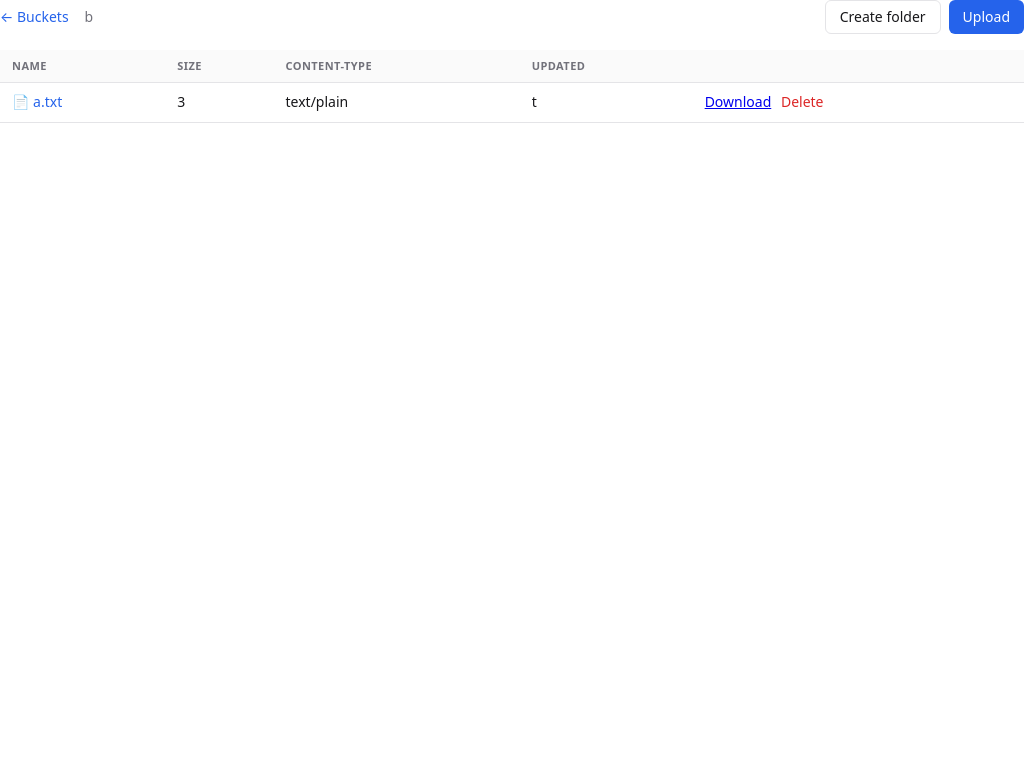
Test: BlobList › deletes a blob via the confirm dialog and refreshes
This screenshot has width=1024, height=768.
Click the button "Delete": point(802, 102) [775,91,830,114]
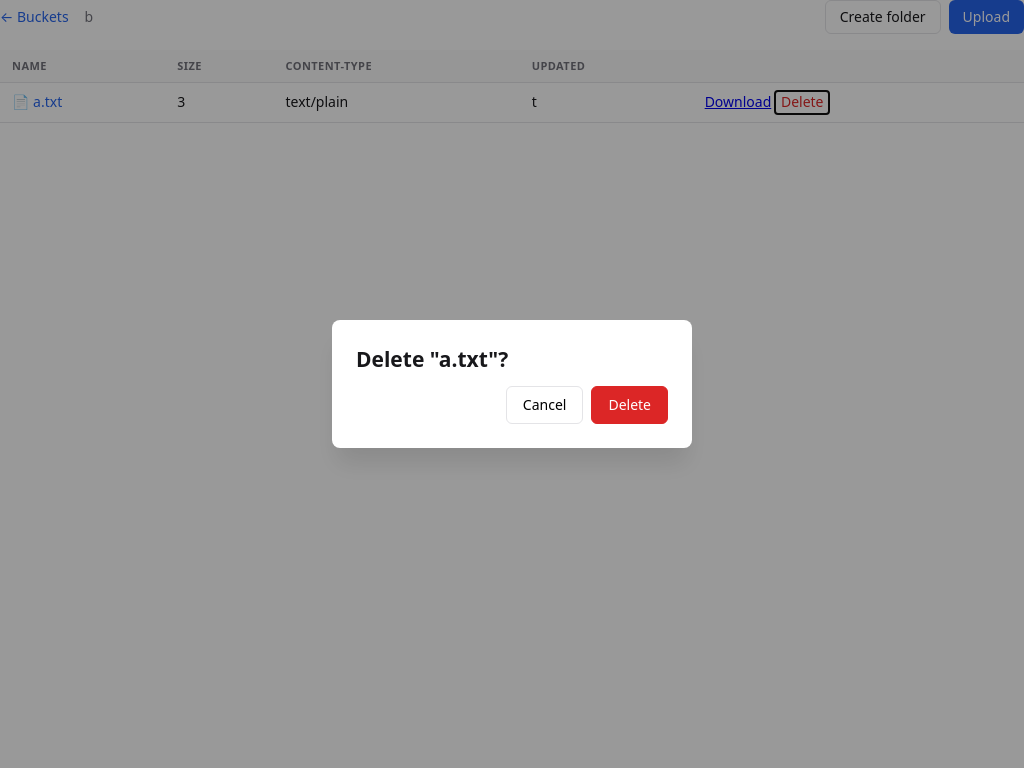
Click the button "Delete": point(630, 405) [591,386,668,424]
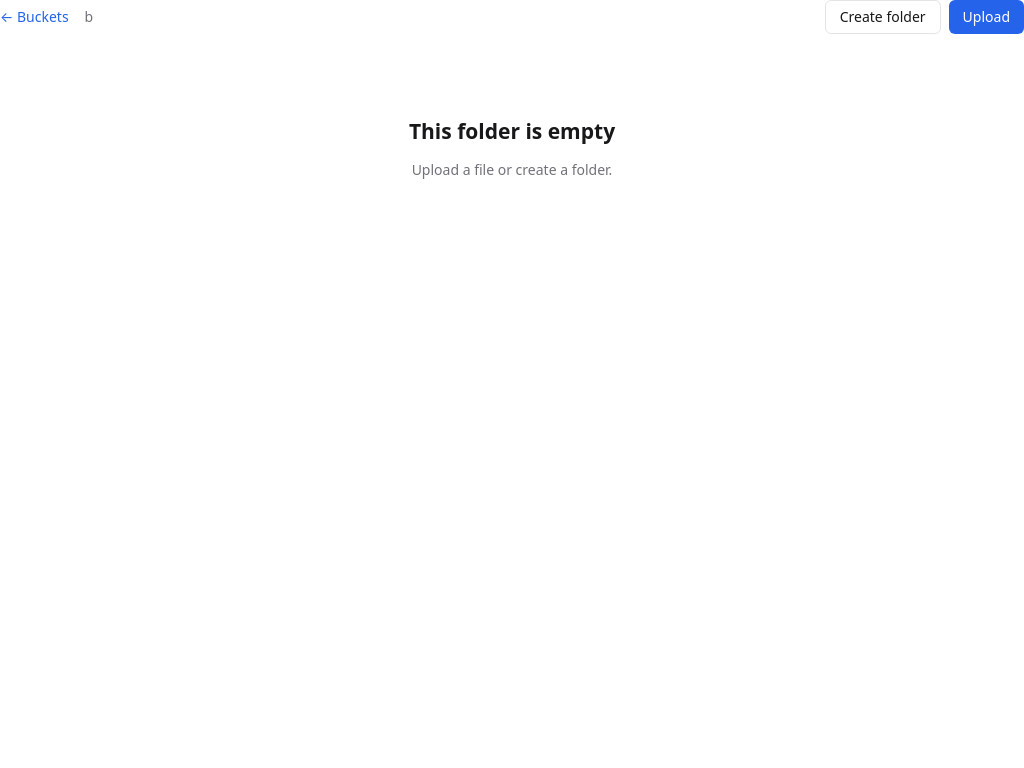
Expected: the heading "This folder is empty" is shown, [409,117,615,145]
